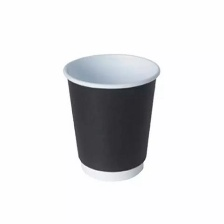paper_cup: (58, 47, 164, 186)
